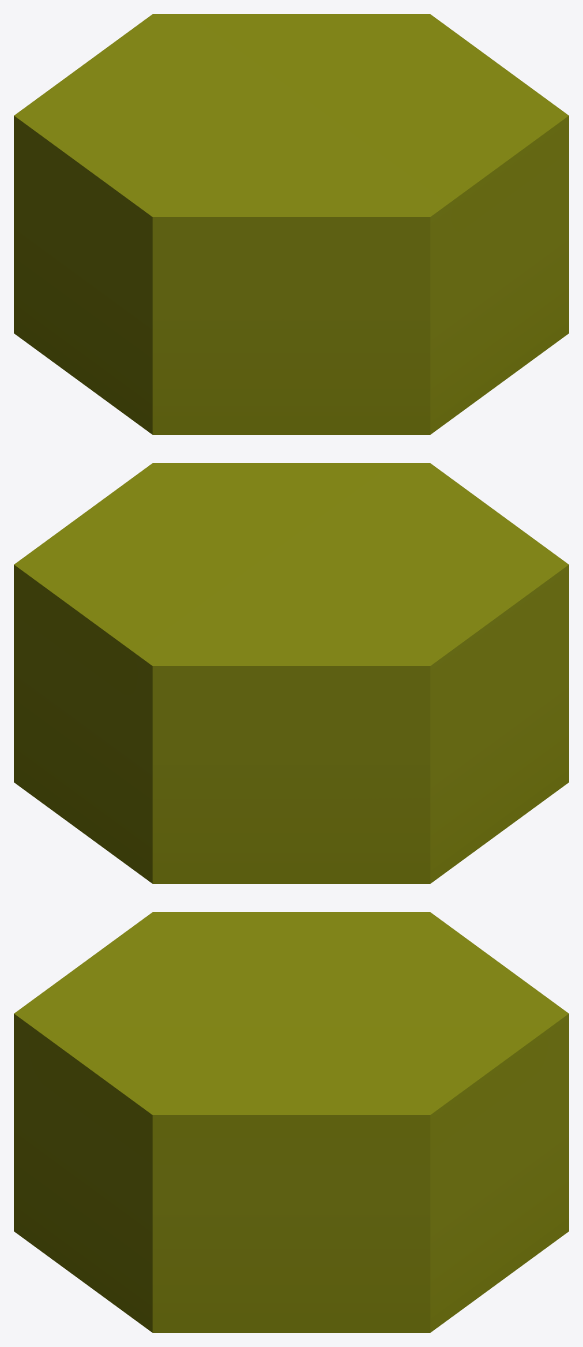
The model's file is hex_grass_bottom.glb.
The picture shows the model from 3 angles, top to bottom: view 1: azimuth 30°, elevation 25°; view 2: azimuth 150°, elevation 25°; view 3: azimuth 270°, elevation 25°; orthographic projection.
Parts seen in each view (by area): view 1: hex_grass_bottom; view 2: hex_grass_bottom; view 3: hex_grass_bottom.
Part boxes in pixels (bbox=[...]): hex_grass_bottom: bbox=[14, 14, 568, 434]; hex_grass_bottom: bbox=[14, 463, 568, 883]; hex_grass_bottom: bbox=[14, 912, 568, 1332].
Size of the model in its own units: 2 by 1 by 2.31.
1 material, 1 textured.
